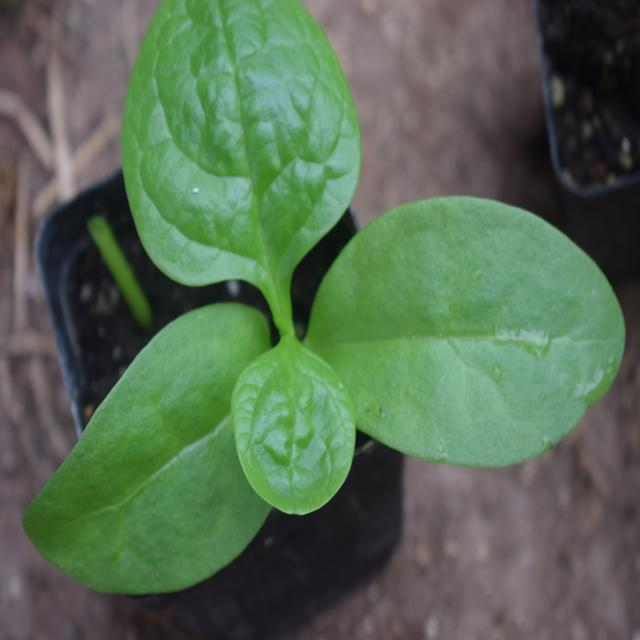Ceylon spinach: (119, 0, 603, 582)
